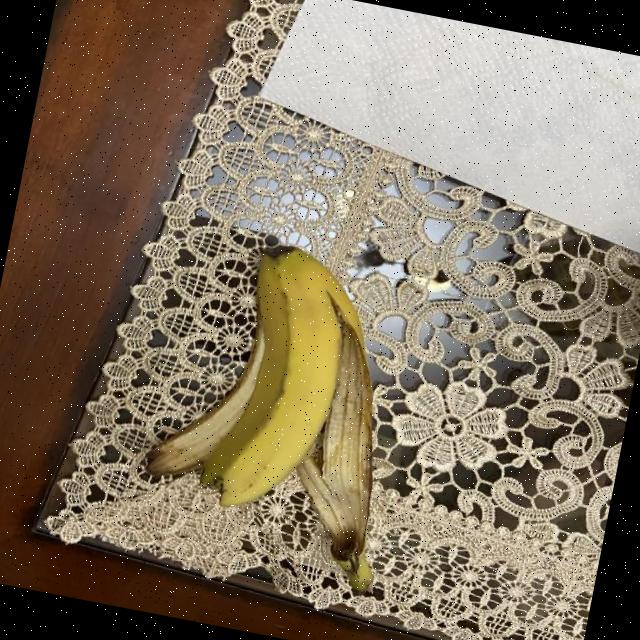banana-peel: (127, 225, 433, 594), (269, 290, 426, 594)
